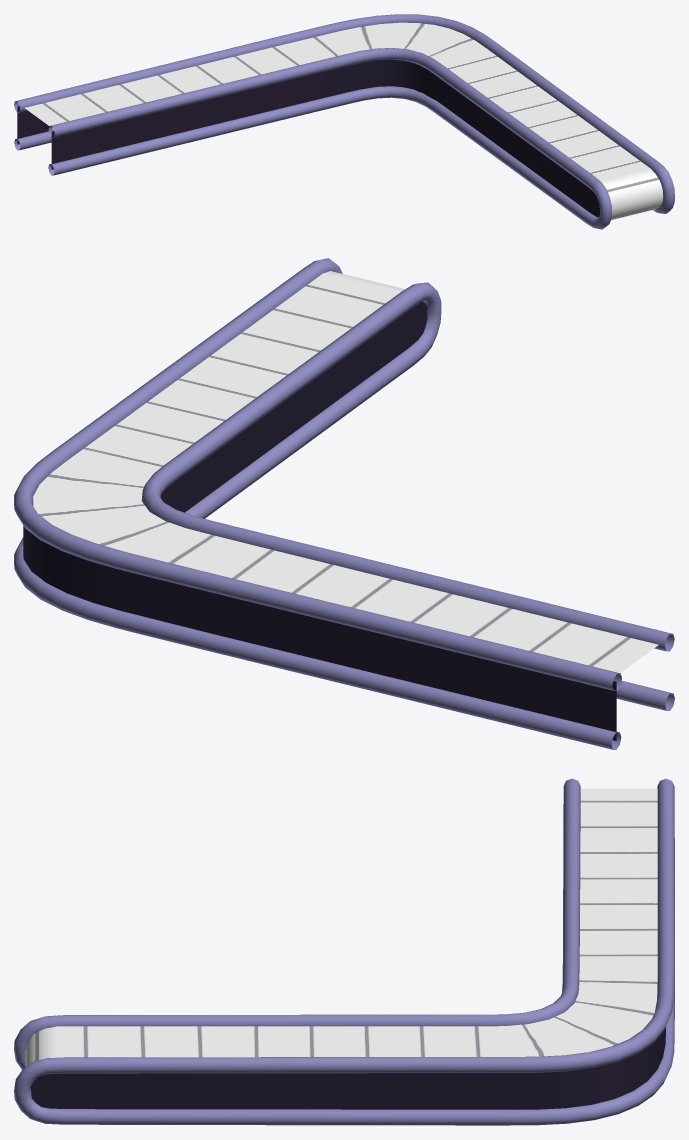
The model's file is conveyor.fbx.
The picture shows the model from 3 angles, top to bottom: view 1: azimuth 30°, elevation 25°; view 2: azimuth 150°, elevation 25°; view 3: azimuth 270°, elevation 25°; orthographic projection. The views are drawn at different scales.
Parts seen in each view (by area): view 1: polySurface250, polySurface255; view 2: polySurface250, polySurface255; view 3: polySurface250, polySurface255.
Boxes of the visible parts, left/top/right/bottom form: polySurface250: left=14, top=14, right=674, bottom=229; polySurface255: left=25, top=22, right=663, bottom=220; polySurface250: left=14, top=258, right=674, bottom=749; polySurface255: left=33, top=271, right=658, bottom=672; polySurface250: left=14, top=778, right=674, bottom=1125; polySurface255: left=25, top=788, right=657, bottom=1066.
Bounding box in the file's own units: 49.7 × 5.58 × 49.11.
Materials: 3 (1 with a texture image).
